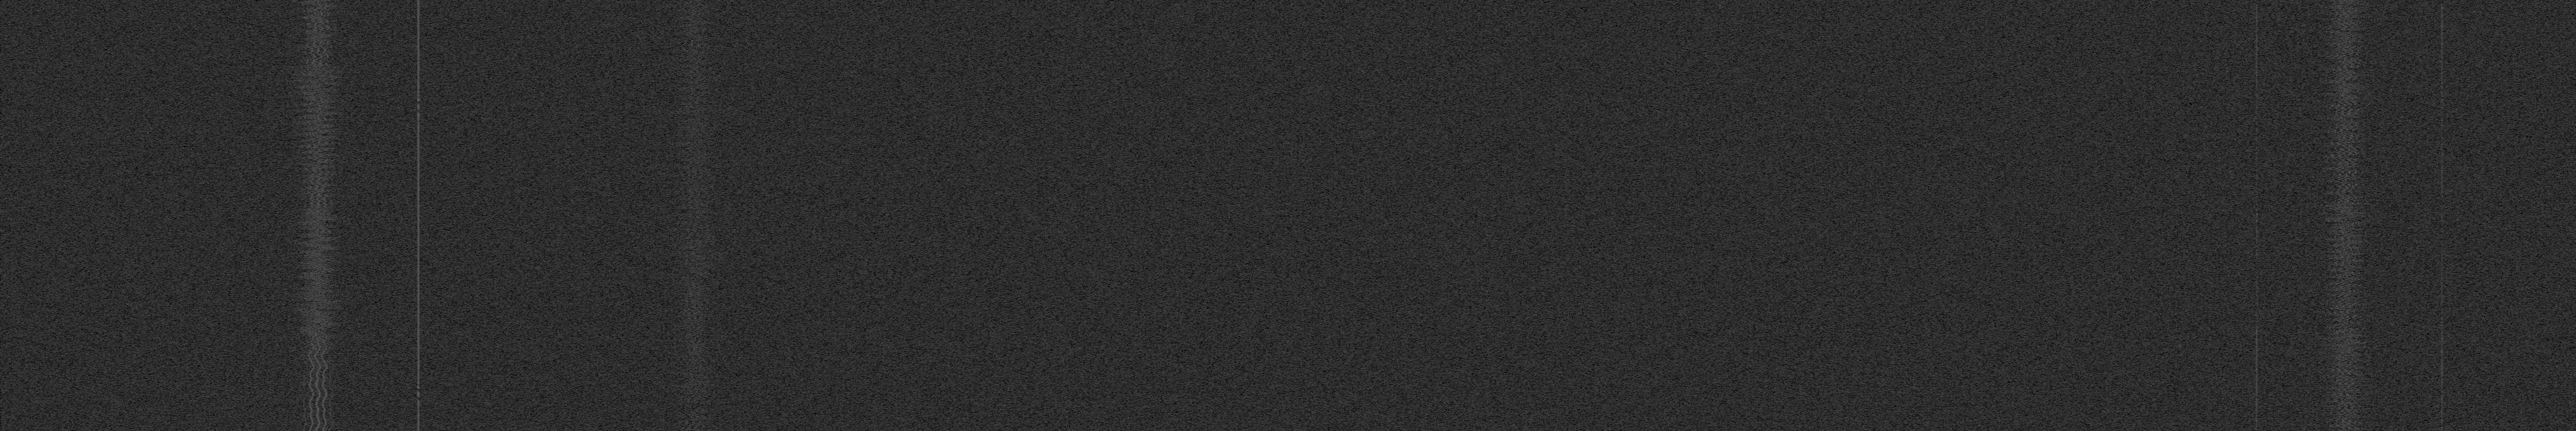wv_am: (416, 111, 421, 390), (416, 0, 421, 110), (416, 390, 421, 431)
wv_lsb: (2297, 321, 2300, 343), (2297, 49, 2300, 59), (2297, 344, 2300, 351), (2297, 28, 2300, 34), (2297, 43, 2300, 48), (2297, 21, 2300, 26), (2297, 10, 2300, 15), (2297, 3, 2300, 8), (2298, 359, 2300, 367), (2297, 318, 2300, 321), (2297, 313, 2300, 316), (2298, 225, 2300, 231), (2297, 69, 2300, 72), (2298, 61, 2300, 67), (2297, 38, 2300, 41), (2297, 16, 2300, 20), (2298, 352, 2300, 359), (2298, 236, 2300, 239), (2298, 198, 2300, 202), (2298, 374, 2300, 377), (2298, 216, 2300, 218), (2298, 208, 2300, 210)
wv_usb: (2256, 208, 2259, 431), (2256, 3, 2259, 198), (2440, 210, 2445, 336), (2440, 3, 2445, 110), (2440, 336, 2445, 431), (2440, 134, 2445, 202), (2440, 116, 2445, 129), (2440, 202, 2445, 210), (2440, 129, 2445, 134), (2441, 110, 2445, 116), (2256, 200, 2257, 208)
wv_wbfm: (284, 0, 352, 431), (2311, 0, 2377, 431), (664, 0, 723, 403), (677, 410, 716, 431), (672, 420, 677, 423), (674, 428, 677, 429)
